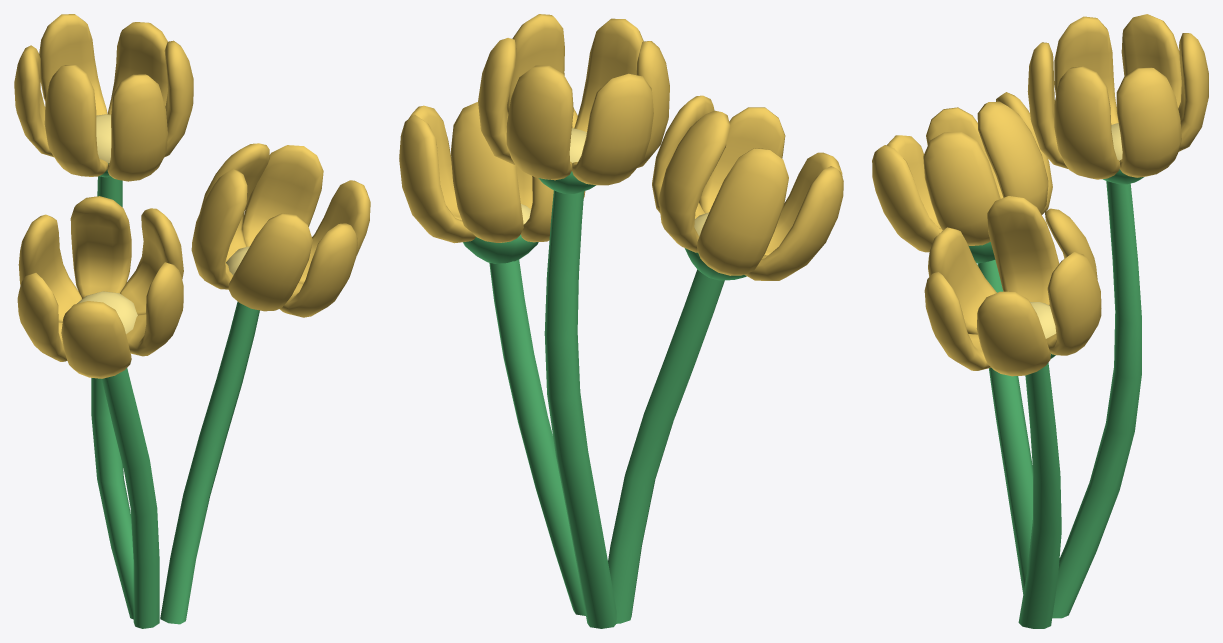
Rendered from Flower_B_03.fbx.
3 views of the same model, side by side, from view 1: azimuth 30°, elevation 25°; view 2: azimuth 150°, elevation 25°; view 3: azimuth 270°, elevation 25° (orthographic). The views are drawn at different scales.
Parts seen in each view (by area): view 1: Flower_B_03_LOD0; view 2: Flower_B_03_LOD0; view 3: Flower_B_03_LOD0.
Part boxes in pixels (x1=…): Flower_B_03_LOD0: x1=14, y1=14, x2=370, y2=628; Flower_B_03_LOD0: x1=399, y1=14, x2=843, y2=628; Flower_B_03_LOD0: x1=872, y1=14, x2=1208, y2=628.
Size of what is drawn, in the model's own units: 427 by 622 by 332.
